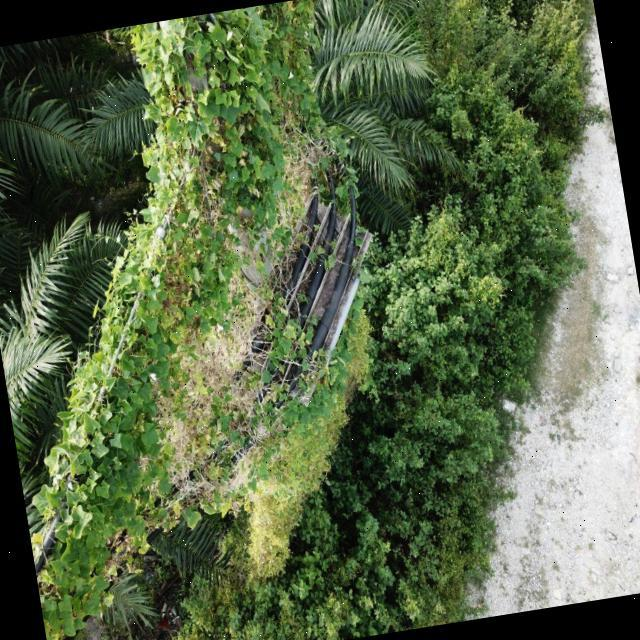critical vegetation: (0, 70, 411, 589)
